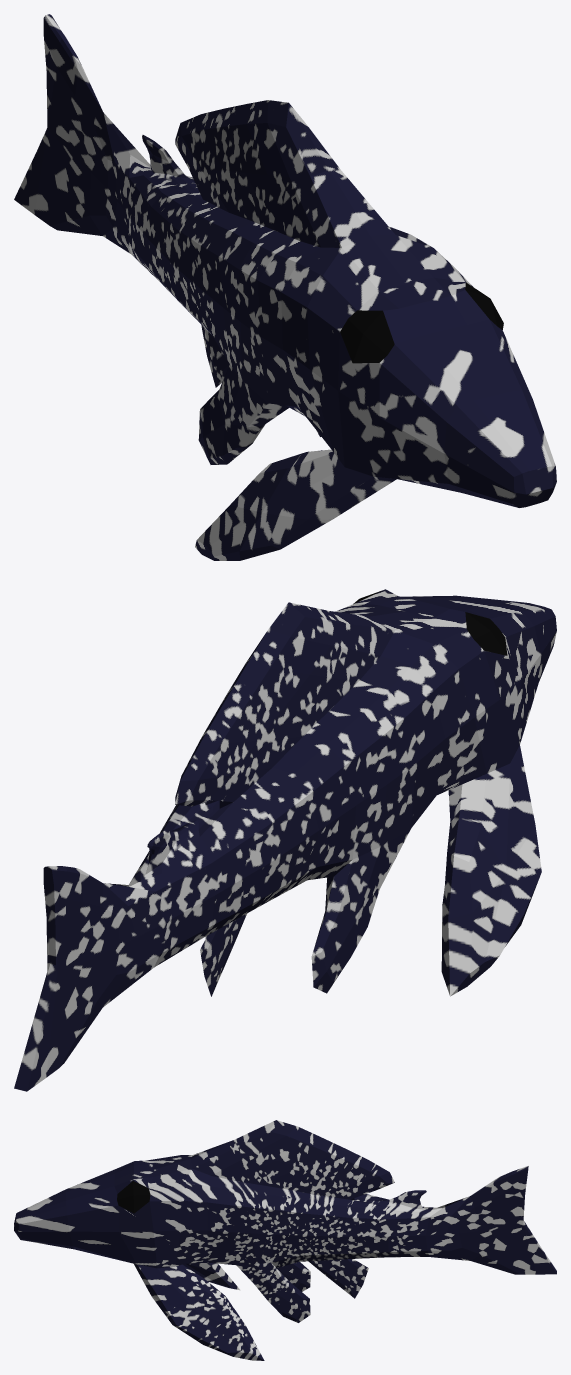
The model's file is acari.fbx.
3 renders of one model, top to bottom at view 1: azimuth 30°, elevation 25°; view 2: azimuth 150°, elevation 25°; view 3: azimuth 270°, elevation 25°, orthographic. The views are drawn at different scales.
Visible parts, largest first — view 1: acari; view 2: acari; view 3: acari.
Boxes of the visible parts, bbox=[...] form: acari: bbox=[14, 14, 556, 560]; acari: bbox=[14, 589, 556, 1091]; acari: bbox=[14, 1120, 556, 1360].
Size of the model in its own units: 0.3933 by 0.4922 by 1.19.
